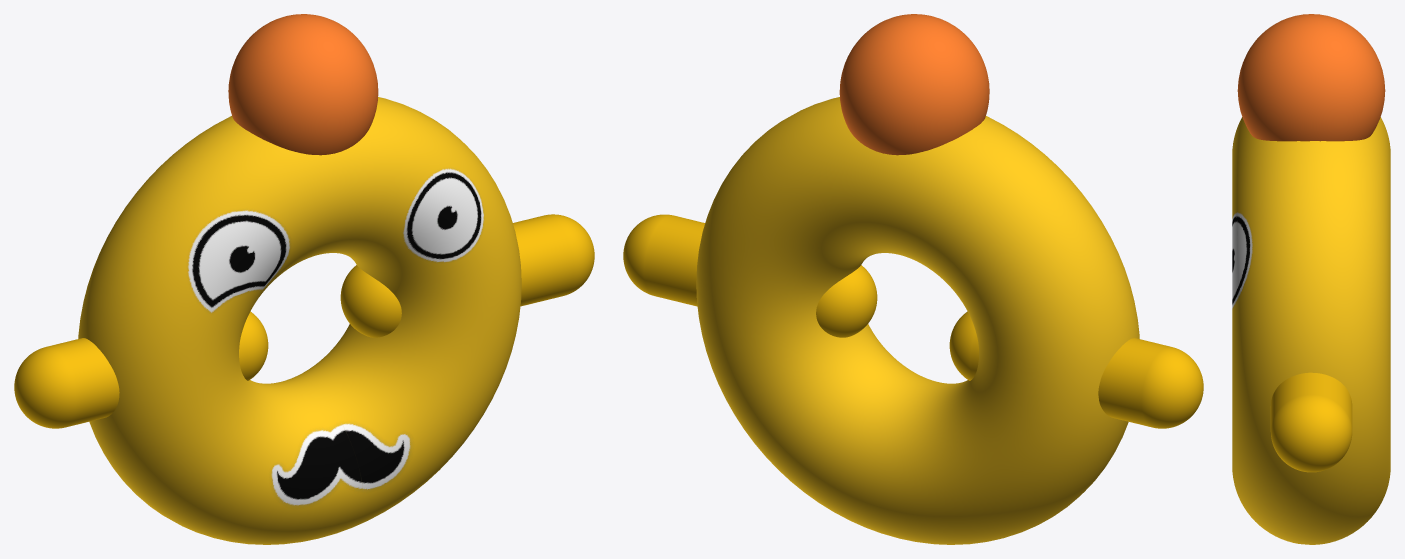
Rendered from big_yellow.fbx.
3 renders of one model, left to right at view 1: azimuth 30°, elevation 25°; view 2: azimuth 150°, elevation 25°; view 3: azimuth 270°, elevation 25°, orthographic.
Visible parts, largest first — view 1: root (×4); view 2: root (×4); view 3: root (×3).
Boxes of the visible parts, x1,y1,x2,y2 form: root (×4): (14,14,594,544); root (×4): (623,14,1203,544); root (×3): (1232,14,1390,544).
Bounding box in the file's own units: 0.5292 × 0.4546 × 0.1299.
Materials: 4 (4 with a texture image).
